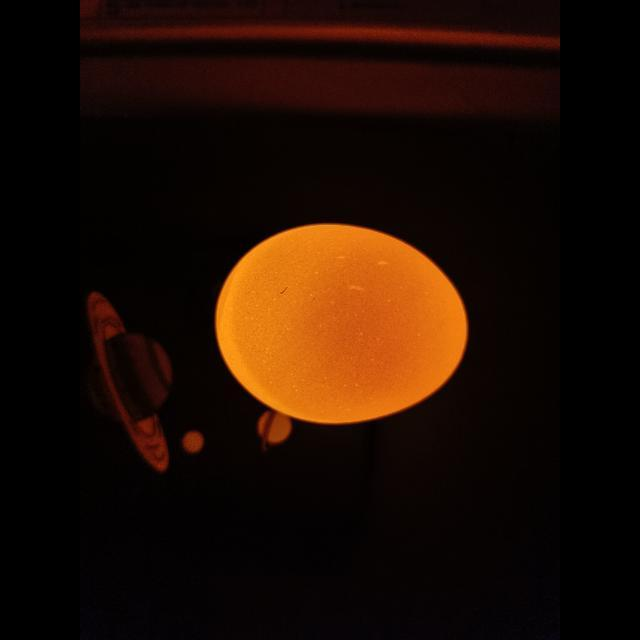AA - Premium: (215, 224, 468, 424), (353, 274, 354, 275)
